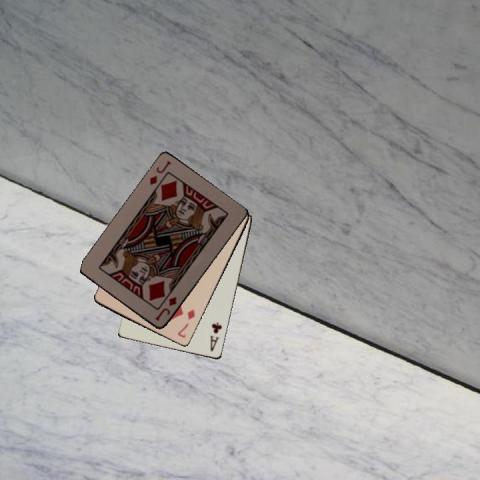7d: (175, 306, 196, 339)
Ac: (208, 319, 224, 353)
Jd: (146, 158, 172, 188), (152, 294, 178, 323)
